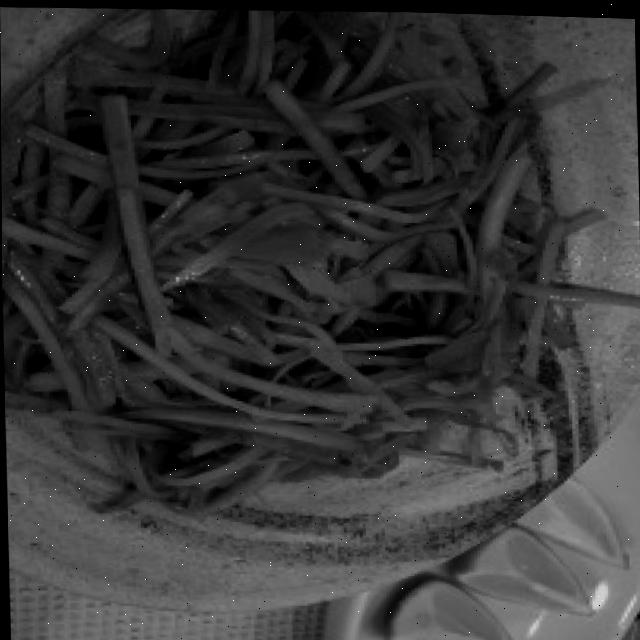蔬菜料理: (0, 0, 603, 581)
